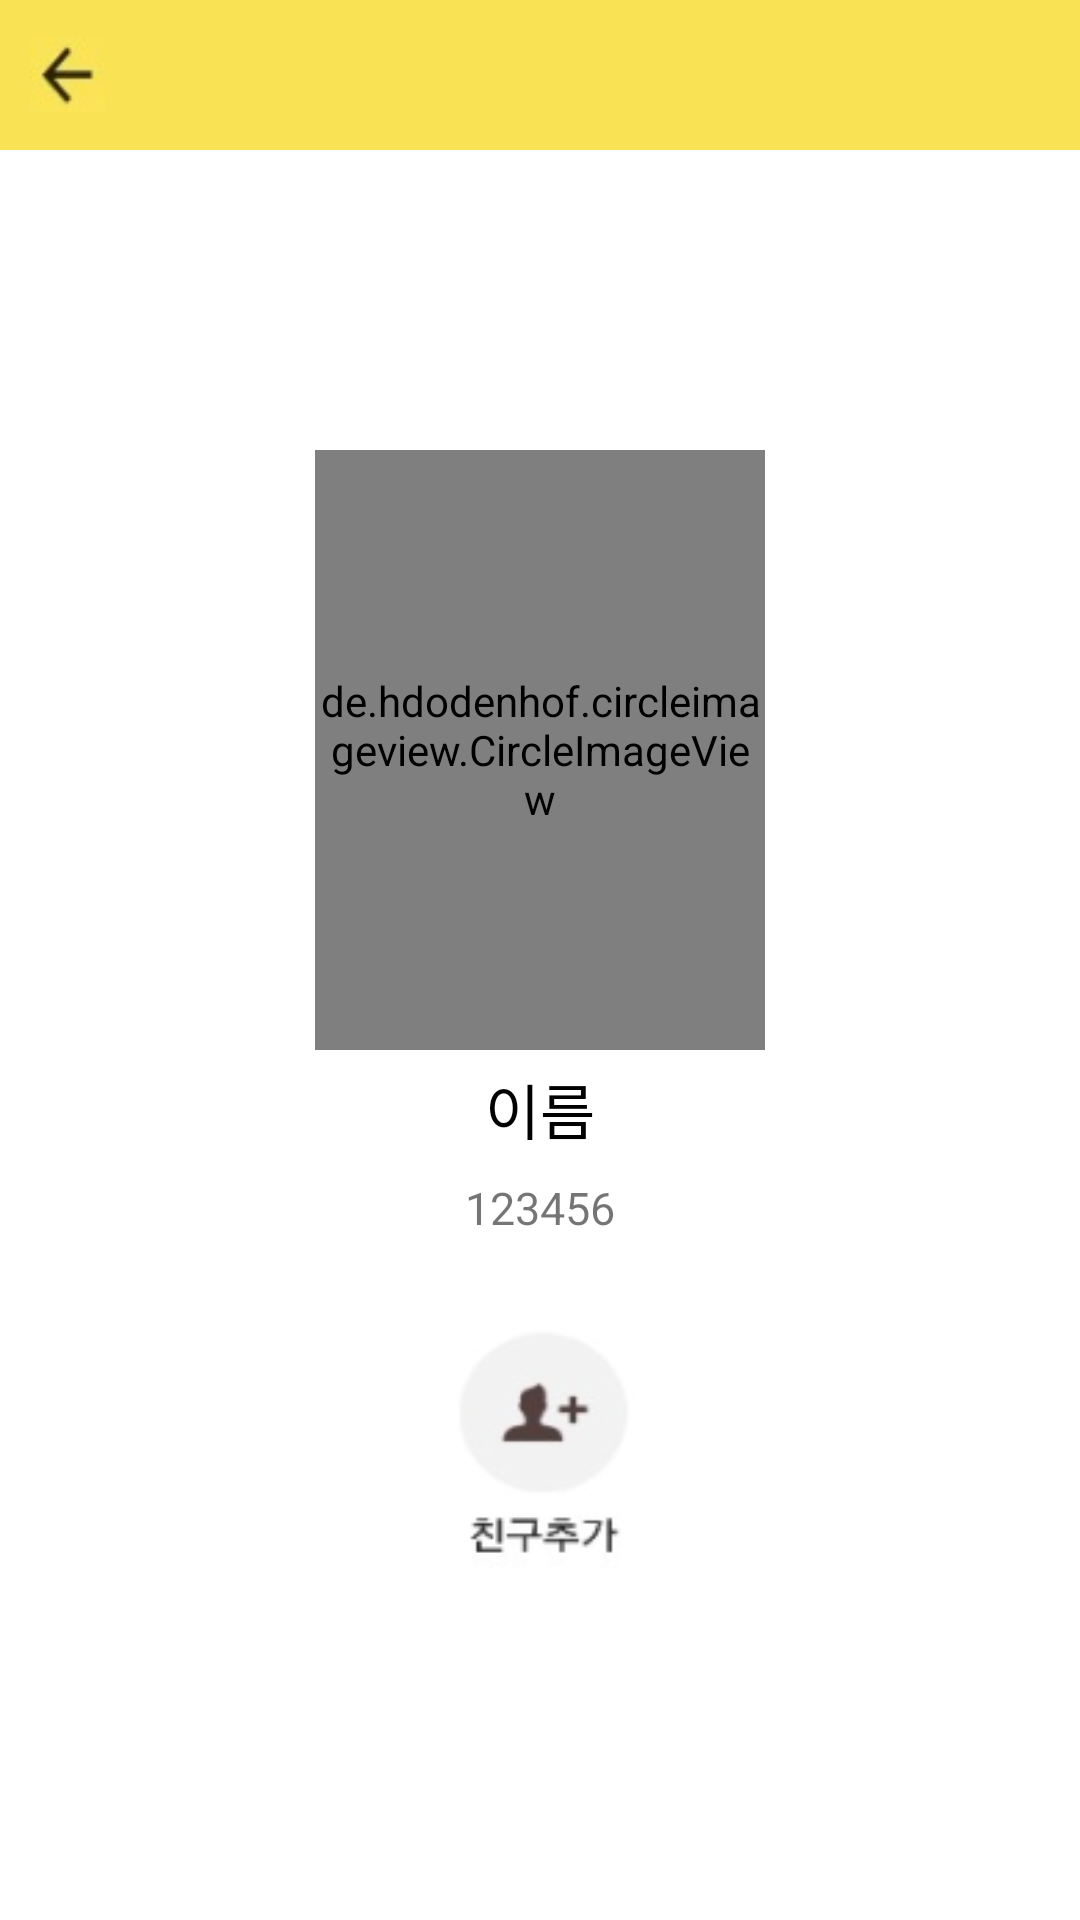

Where to tap for icons on this 1080w x 1920h app screen, as [x,y]:
back: [67,75]
